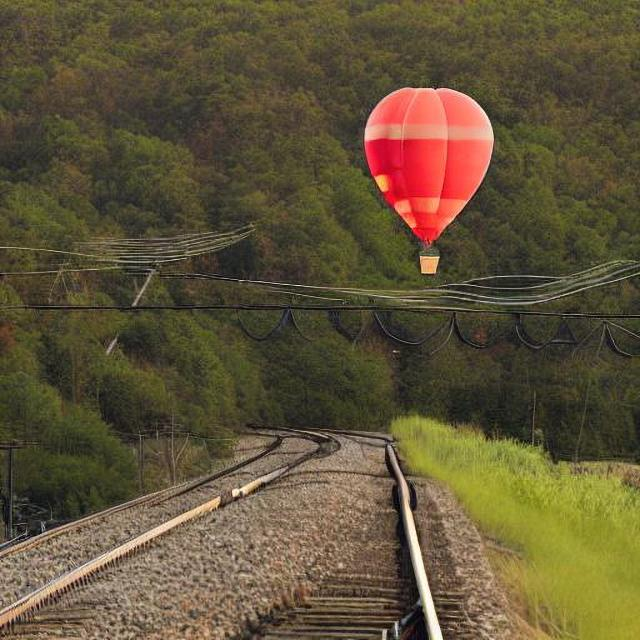balloon: (355, 82, 493, 260)
